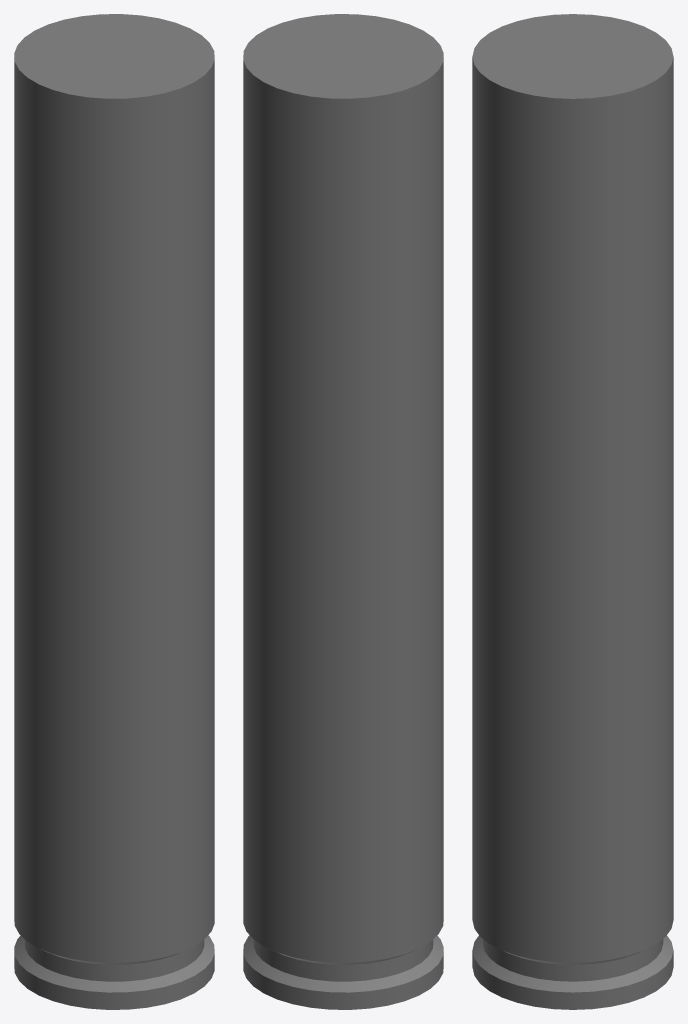
The model's file is q-scifi-mod-column-round.glb.
3 views of the same model, side by side, from view 1: azimuth 30°, elevation 25°; view 2: azimuth 150°, elevation 25°; view 3: azimuth 270°, elevation 25° (orthographic).
Parts seen in each view (by area): view 1: Column_Round; view 2: Column_Round; view 3: Column_Round.
Part boxes in pixels (box(x1,y1,x2,y2)): Column_Round: box(14, 14, 214, 1009); Column_Round: box(243, 14, 443, 1009); Column_Round: box(472, 14, 673, 1009).
Size of the model in its own units: 1 by 5 by 1.
2 materials, 2 textured.
